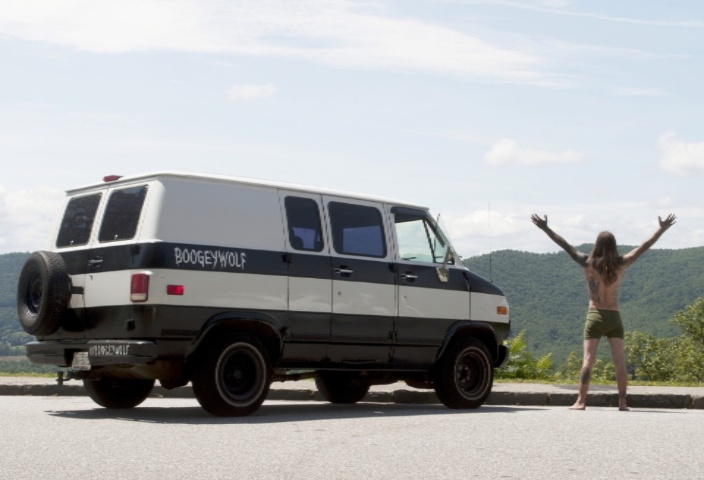van: (15, 157, 554, 438)
